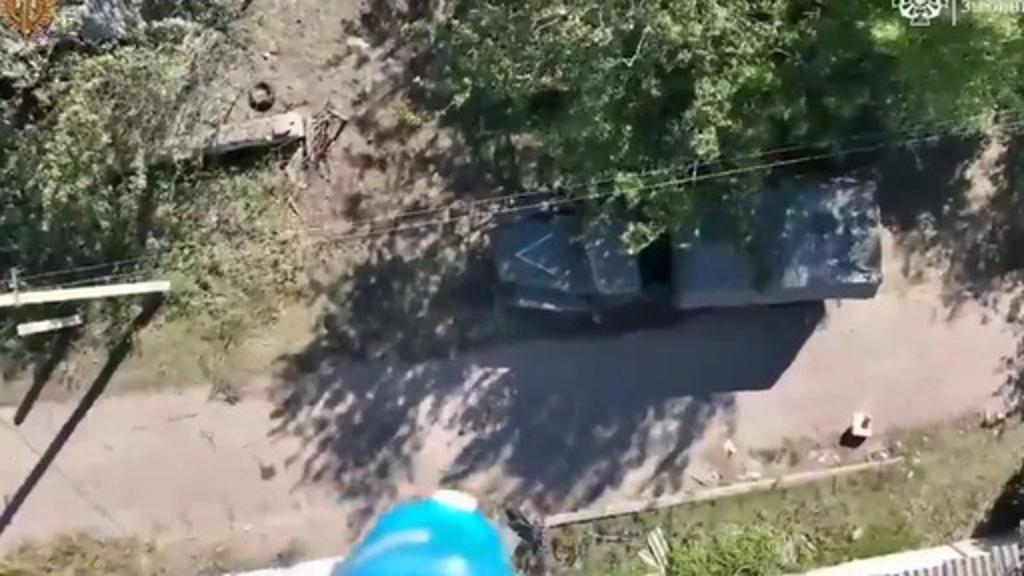TRUCK: (486, 164, 898, 342)
